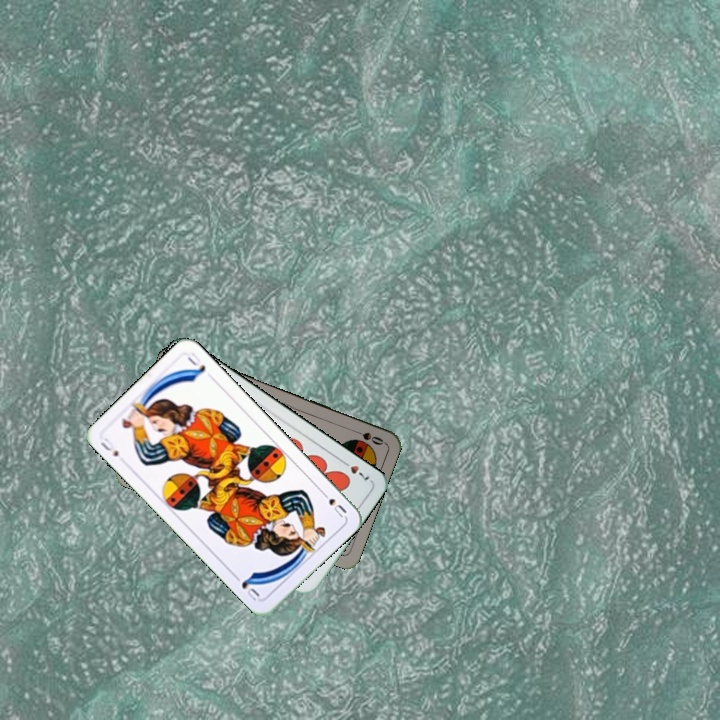H7: (337, 456, 372, 485)
SO: (347, 425, 386, 448)
SU: (316, 487, 349, 520), (96, 433, 121, 459)
